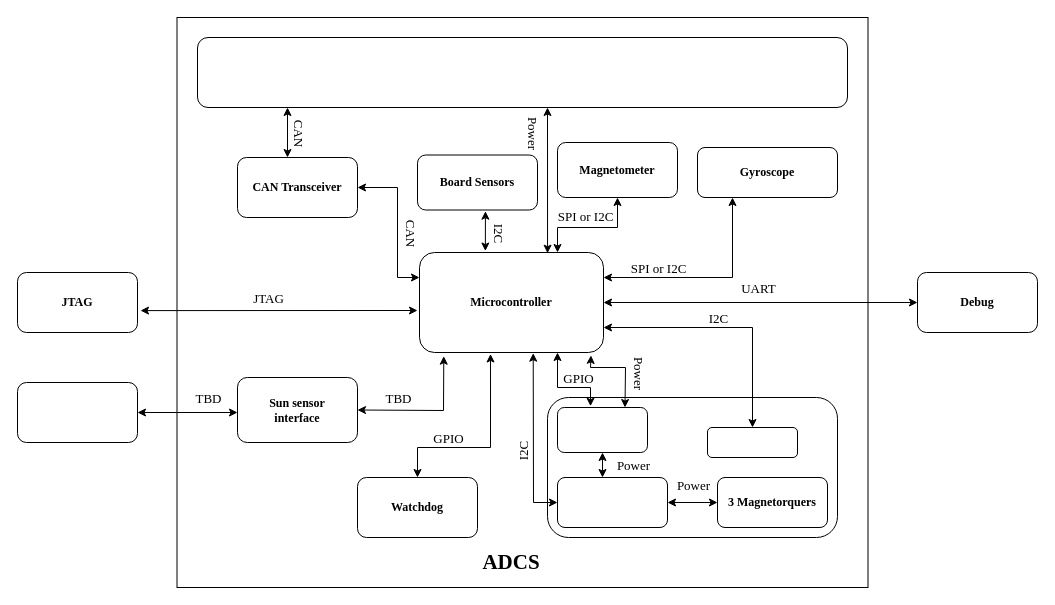
This 1055x605 diagram has some shape labels left out. Each missing label, with the box of its shape:
3 H-Bridges: (556, 406, 648, 452)
Current and Voltage Sensors: (556, 476, 668, 528)
PC-104 Bus: (196, 36, 848, 108)
Sun Sensors: (16, 382, 138, 442)
Temp Sensors: (706, 426, 798, 458)
